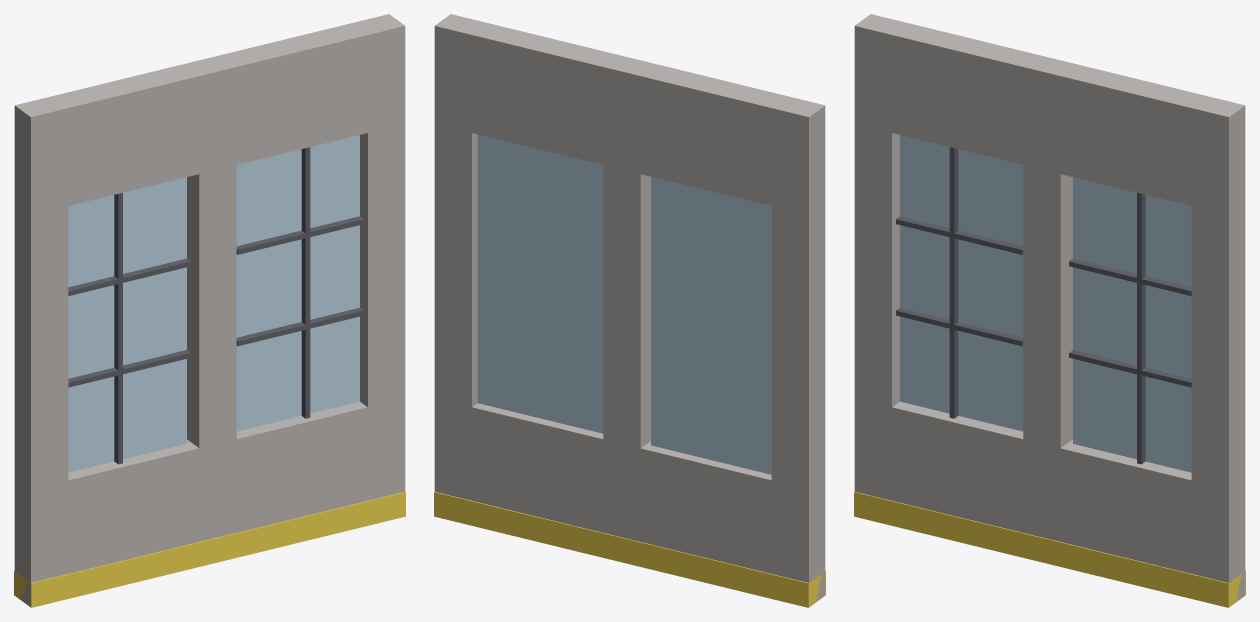
Rendered from MuroVentana.fbx.
3 renders of one model, left to right at view 1: azimuth 30°, elevation 25°; view 2: azimuth 150°, elevation 25°; view 3: azimuth 330°, elevation 25°, orthographic.
Visible parts, largest first — view 1: Cuerpo; view 2: Cuerpo; view 3: Cuerpo.
Boxes of the visible parts, x1,y1,x2,y2 form: Cuerpo: (14, 14, 405, 607); Cuerpo: (434, 14, 825, 607); Cuerpo: (854, 14, 1245, 607).
Size of the model in its own units: 4 by 5.01 by 0.32.
